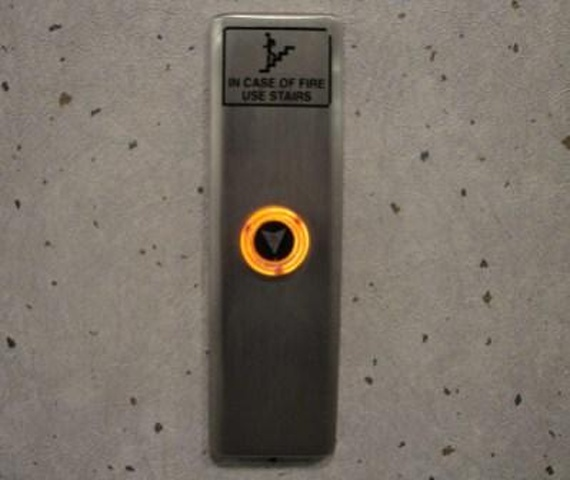down: (239, 205, 310, 277)
